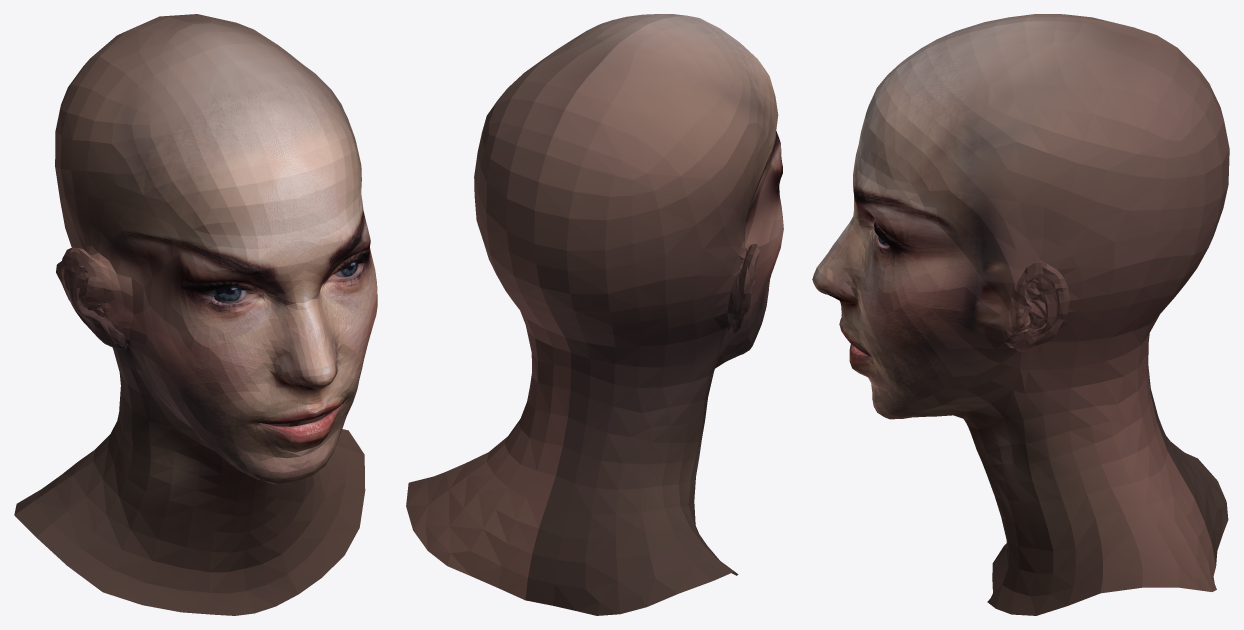
The model's file is bald_front.obj.
The picture shows the model from 3 angles, left to right: view 1: azimuth 30°, elevation 25°; view 2: azimuth 150°, elevation 25°; view 3: azimuth 270°, elevation 25°; orthographic projection. The views are drawn at different scales.
Bounding box in the file's own units: 0.1977 × 0.3281 × 0.2203.
1 material, 1 textured.
